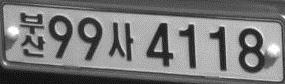1: (206, 25, 234, 70), (177, 23, 203, 69)
4: (145, 22, 173, 67)
8: (237, 27, 265, 74)
9: (46, 13, 74, 58), (75, 16, 103, 60)
부산_V: (19, 11, 45, 57)
사: (107, 21, 134, 61)
